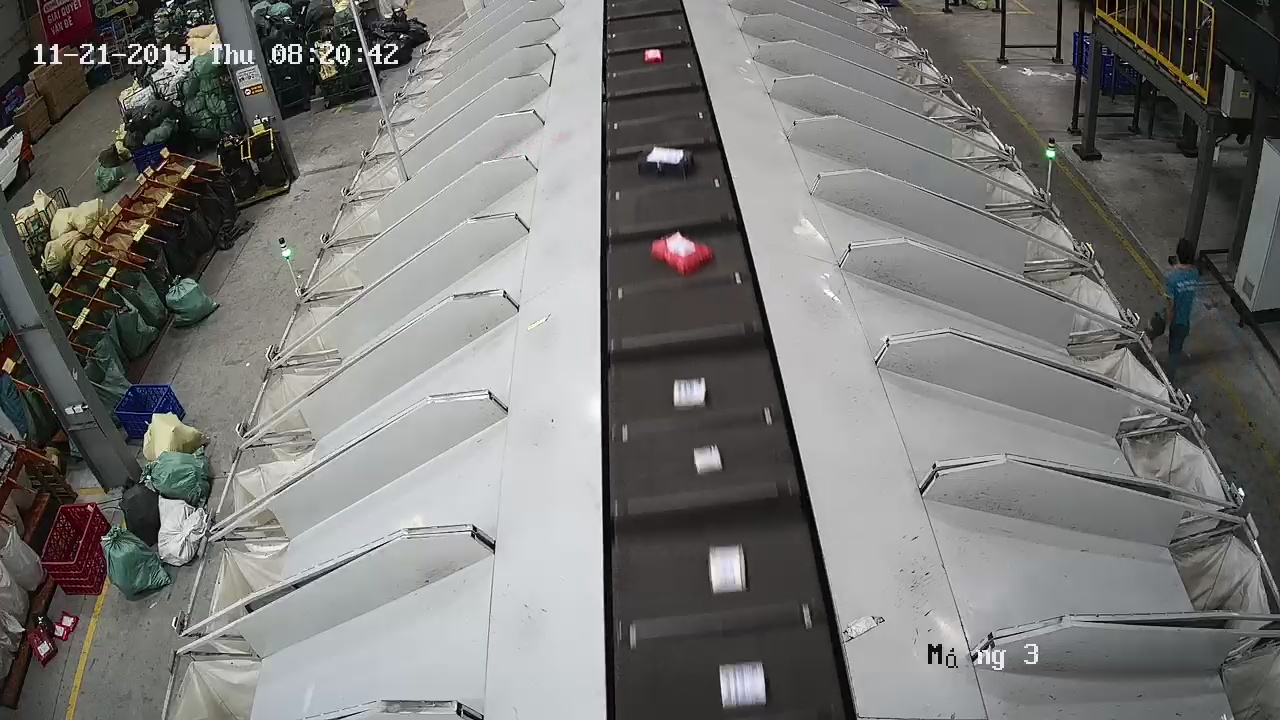parcel: (670, 375, 710, 412)
